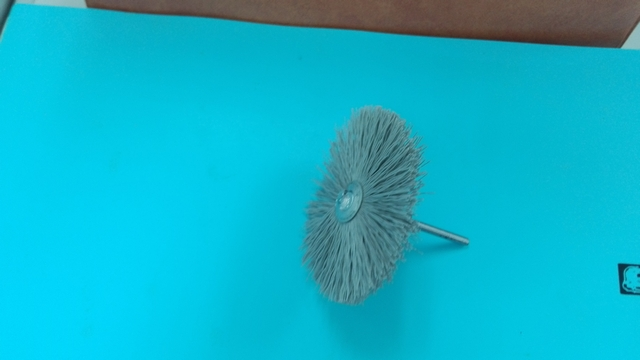TOOL: (252, 80, 492, 326)
